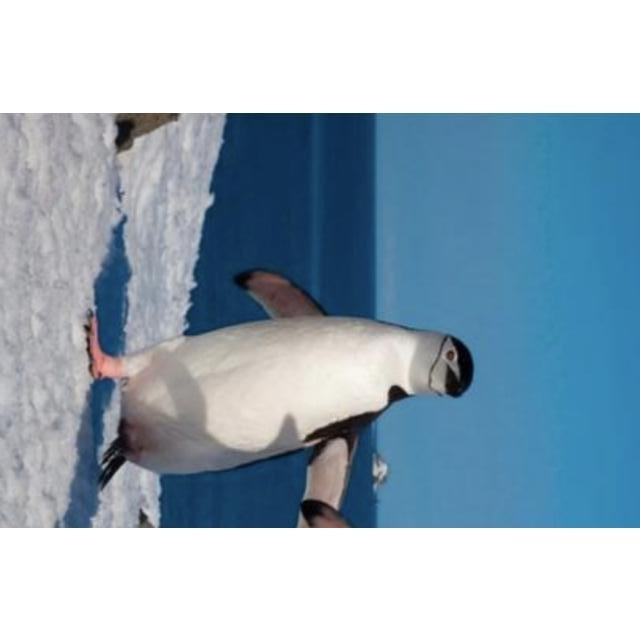penguin: (81, 268, 474, 524)
